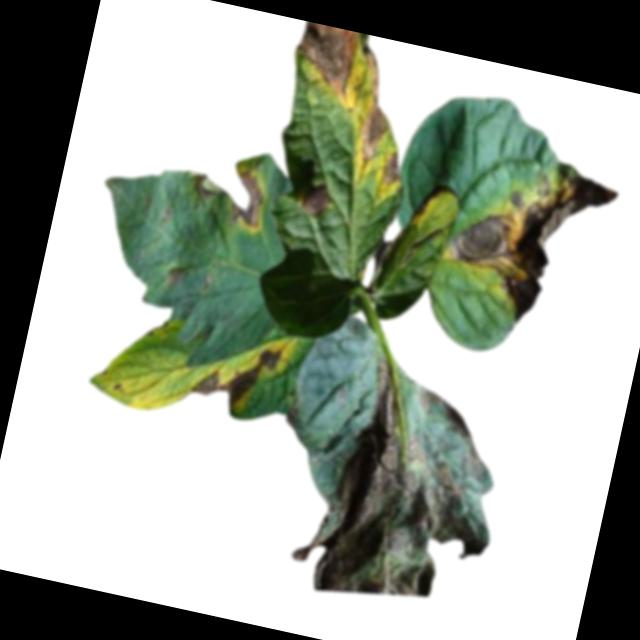Early_blight: (285, 345, 529, 627), (438, 146, 625, 340), (275, 21, 411, 164), (189, 327, 285, 417), (185, 151, 275, 234), (298, 178, 337, 222), (380, 148, 407, 189), (163, 263, 188, 288), (280, 403, 302, 429)
